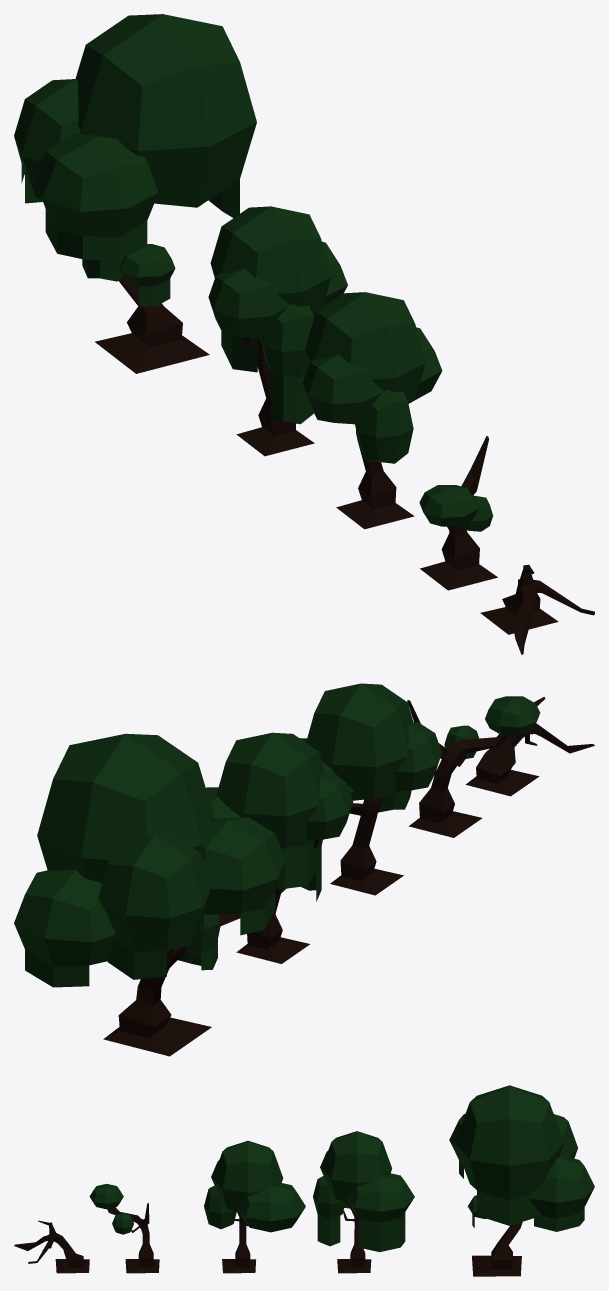
Rendered from Apple tree 3 stage.fbx.
The picture shows the model from 3 angles, top to bottom: view 1: azimuth 30°, elevation 25°; view 2: azimuth 150°, elevation 25°; view 3: azimuth 270°, elevation 25°; orthographic projection. The views are drawn at different scales.
Visible parts, largest first — view 1: Cube.006, Cube.007, Cube, Plane.001, Plane.002; view 2: Cube.006, Cube.007, Cube, Plane.001, Plane.002; view 3: Cube.006, Cube.007, Cube, Plane.001, Plane.002.
Part boxes in pixels (x1,y1,x2,y2): Cube.006: [14, 14, 256, 373]; Cube.007: [208, 206, 347, 456]; Cube: [303, 292, 442, 529]; Plane.001: [419, 436, 497, 590]; Plane.002: [480, 564, 594, 654]; Cube.006: [14, 733, 285, 1056]; Cube.007: [206, 732, 353, 963]; Cube: [299, 683, 441, 895]; Plane.001: [407, 696, 540, 837]; Plane.002: [465, 697, 594, 796]; Cube.006: [449, 1085, 594, 1276]; Cube.007: [313, 1131, 414, 1273]; Cube: [204, 1140, 305, 1273]; Plane.001: [89, 1183, 159, 1273]; Plane.002: [14, 1220, 89, 1273].
Bounding box in the file's own units: 1696 × 2329 × 6606.
